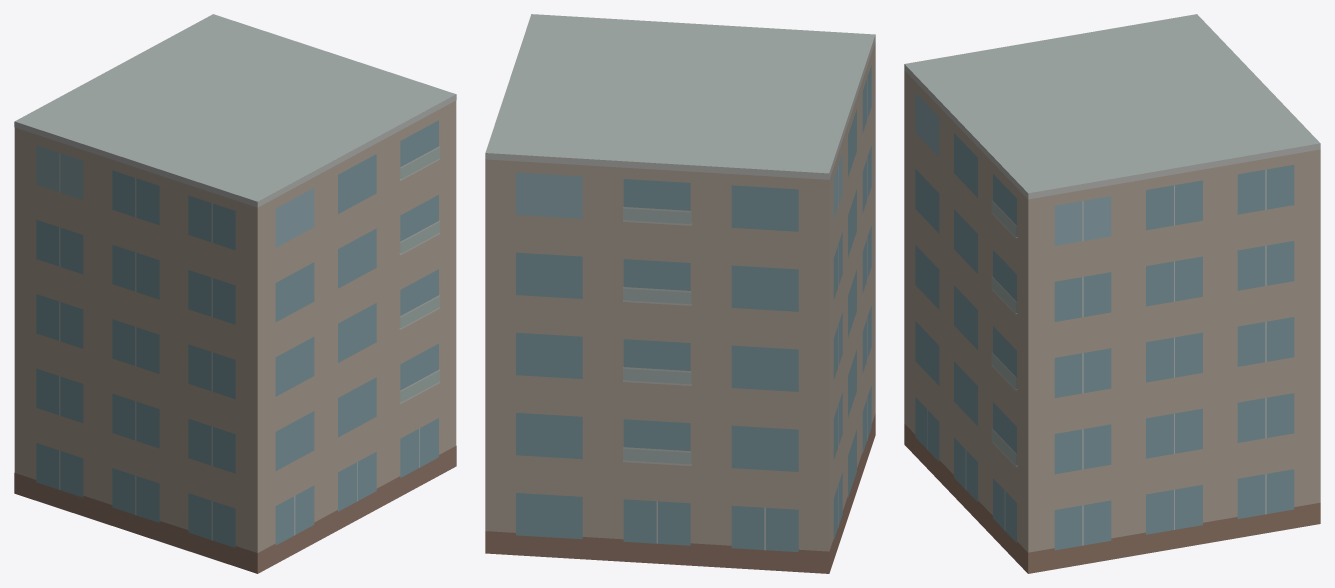
File: residential-dc437bfb-5373-4a2d-8fd3-88afe64ad679.glb
3 views of the same model, side by side, from view 1: azimuth 30°, elevation 25°; view 2: azimuth 150°, elevation 25°; view 3: azimuth 270°, elevation 25° (orthographic). The views are drawn at different scales.
Visible parts, largest first — view 1: residential-dc437bfb-5373-4a2d-8fd3-88afe64ad679.tmp; view 2: residential-dc437bfb-5373-4a2d-8fd3-88afe64ad679.tmp; view 3: residential-dc437bfb-5373-4a2d-8fd3-88afe64ad679.tmp.
Part boxes in pixels (x1,y1,x2,y2): residential-dc437bfb-5373-4a2d-8fd3-88afe64ad679.tmp: (14,14,456,573); residential-dc437bfb-5373-4a2d-8fd3-88afe64ad679.tmp: (485,14,875,573); residential-dc437bfb-5373-4a2d-8fd3-88afe64ad679.tmp: (904,14,1320,573).
Size of the model in its own units: 15.42 by 15.25 by 15.13.
